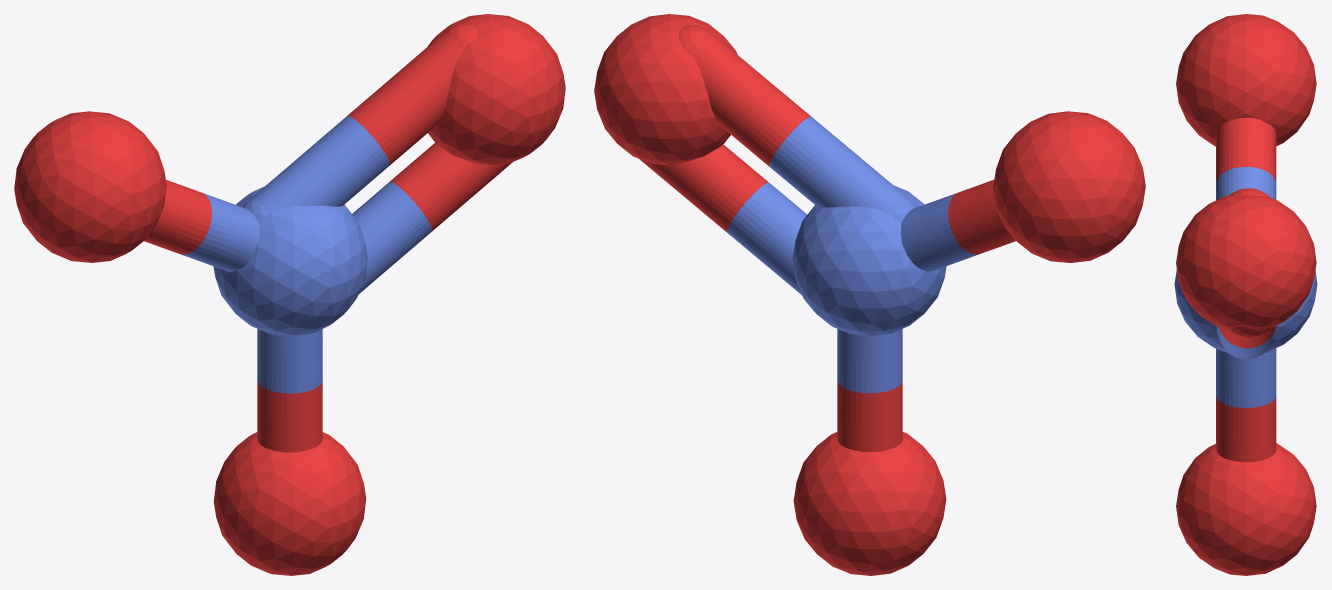
The model's file is nitrate.fbx.
The picture shows the model from 3 angles, left to right: view 1: azimuth 30°, elevation 25°; view 2: azimuth 150°, elevation 25°; view 3: azimuth 270°, elevation 25°; orthographic projection. The views are drawn at different scales.
Parts seen in each view (by area): view 1: Shape_IndexedFaceSet.002, Shape_IndexedFaceSet.003, Shape_IndexedFaceSet.001, Shape_IndexedFaceSet, Shape_IndexedFaceSet.013, Shape_IndexedFaceSet.011, Shape_IndexedFaceSet.017, Shape_IndexedFaceSet.015, Shape_IndexedFaceSet.006, Shape_IndexedFaceSet.004, Shape_IndexedFaceSet.008, Shape_IndexedFaceSet.009; view 2: Shape_IndexedFaceSet.002, Shape_IndexedFaceSet.003, Shape_IndexedFaceSet, Shape_IndexedFaceSet.001, Shape_IndexedFaceSet.013, Shape_IndexedFaceSet.011, Shape_IndexedFaceSet.017, Shape_IndexedFaceSet.015, Shape_IndexedFaceSet.006, Shape_IndexedFaceSet.004, Shape_IndexedFaceSet.008, Shape_IndexedFaceSet.009; view 3: Shape_IndexedFaceSet.001, Shape_IndexedFaceSet.003, Shape_IndexedFaceSet.002, Shape_IndexedFaceSet.006, Shape_IndexedFaceSet.004, Shape_IndexedFaceSet.009, Shape_IndexedFaceSet, Shape_IndexedFaceSet.008, Shape_IndexedFaceSet.015, Shape_IndexedFaceSet.017, Shape_IndexedFaceSet.018, Shape_IndexedFaceSet.014.
Boxes of the visible parts, box(x1,y1,x2,y2) form: Shape_IndexedFaceSet.002: box(14, 111, 166, 262); Shape_IndexedFaceSet.003: box(213, 432, 366, 575); Shape_IndexedFaceSet.001: box(427, 14, 565, 165); Shape_IndexedFaceSet: box(213, 186, 367, 335); Shape_IndexedFaceSet.013: box(347, 31, 465, 165); Shape_IndexedFaceSet.011: box(251, 116, 389, 212); Shape_IndexedFaceSet.017: box(389, 143, 512, 231); Shape_IndexedFaceSet.015: box(352, 182, 432, 294); Shape_IndexedFaceSet.006: box(257, 381, 322, 452); Shape_IndexedFaceSet.004: box(257, 329, 322, 393); Shape_IndexedFaceSet.008: box(182, 193, 259, 271); Shape_IndexedFaceSet.009: box(144, 180, 211, 254); Shape_IndexedFaceSet.002: box(993, 111, 1145, 262); Shape_IndexedFaceSet.003: box(793, 432, 946, 575); Shape_IndexedFaceSet: box(792, 185, 946, 335); Shape_IndexedFaceSet.001: box(594, 14, 737, 165); Shape_IndexedFaceSet.013: box(690, 34, 810, 166); Shape_IndexedFaceSet.011: box(769, 116, 908, 213); Shape_IndexedFaceSet.017: box(639, 144, 768, 232); Shape_IndexedFaceSet.015: box(727, 182, 807, 294); Shape_IndexedFaceSet.006: box(837, 381, 902, 452); Shape_IndexedFaceSet.004: box(837, 329, 902, 393); Shape_IndexedFaceSet.008: box(900, 193, 978, 271); Shape_IndexedFaceSet.009: box(948, 180, 1015, 254); Shape_IndexedFaceSet.001: box(1176, 195, 1316, 330); Shape_IndexedFaceSet.003: box(1176, 443, 1316, 575); Shape_IndexedFaceSet.002: box(1176, 14, 1316, 146); Shape_IndexedFaceSet.006: box(1216, 396, 1276, 462); Shape_IndexedFaceSet.004: box(1216, 348, 1276, 407); Shape_IndexedFaceSet.009: box(1216, 118, 1276, 181); Shape_IndexedFaceSet: box(1174, 269, 1317, 353); Shape_IndexedFaceSet.008: box(1216, 167, 1276, 200); Shape_IndexedFaceSet.015: box(1216, 325, 1276, 358); Shape_IndexedFaceSet.017: box(1218, 325, 1276, 348); Shape_IndexedFaceSet.018: box(1229, 326, 1271, 337); Shape_IndexedFaceSet.014: box(1230, 188, 1269, 197).
Bounding box in the file's own units: 2810 × 2527 × 712.
